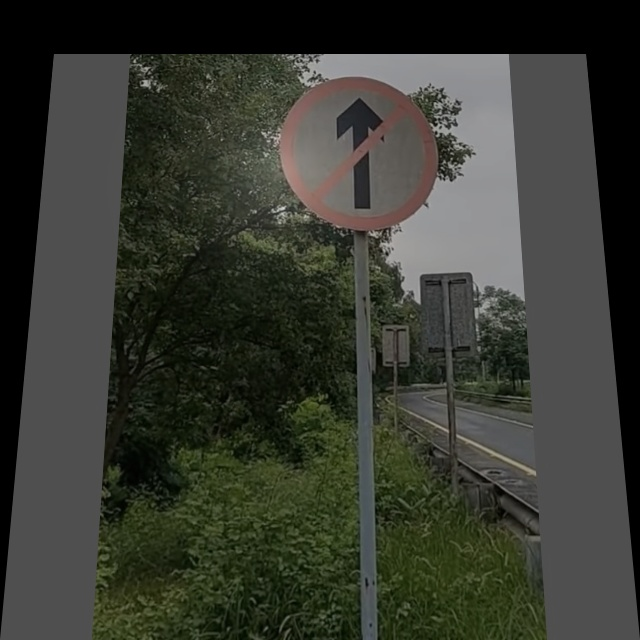No_Entry: (279, 78, 439, 229)
